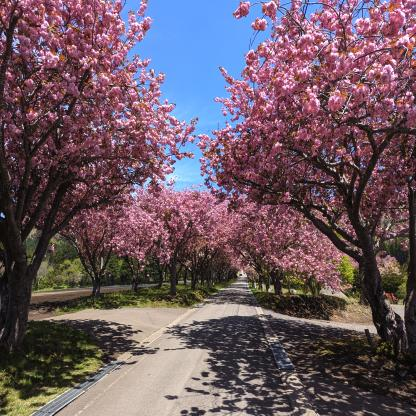YaeSakura: (191, 0, 416, 286), (0, 0, 195, 300), (34, 160, 125, 298), (285, 214, 351, 295), (148, 175, 187, 294), (113, 184, 157, 288), (230, 196, 264, 286), (181, 187, 212, 273), (260, 191, 287, 289), (247, 197, 271, 287), (348, 244, 399, 286), (276, 208, 296, 288), (167, 187, 182, 281), (180, 189, 194, 279), (155, 182, 167, 286), (196, 181, 207, 280), (204, 182, 214, 283), (218, 191, 227, 277), (224, 196, 233, 275), (230, 202, 238, 274), (212, 189, 217, 283), (216, 190, 221, 280), (241, 260, 257, 284), (234, 252, 242, 278)
